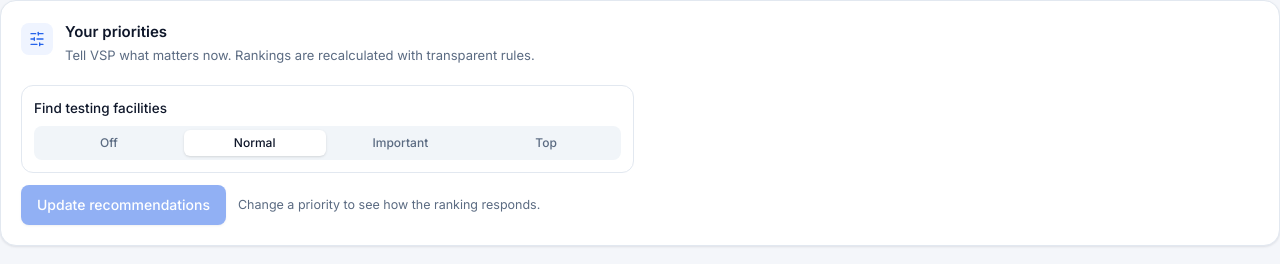
Test: read-only public demo › keeps editing available for a password session
Click the radio button labelled "Top" at coordinates (546, 143), box [475,130,617,156]
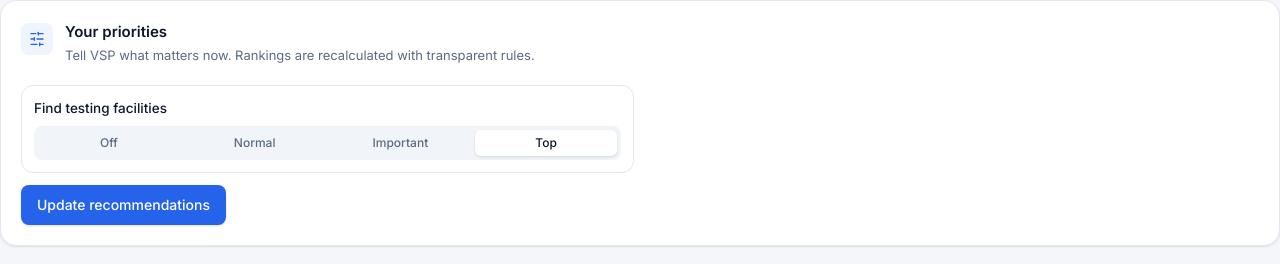
Expected: the button "Update recommendations" is enabled, [21,185,226,225]
